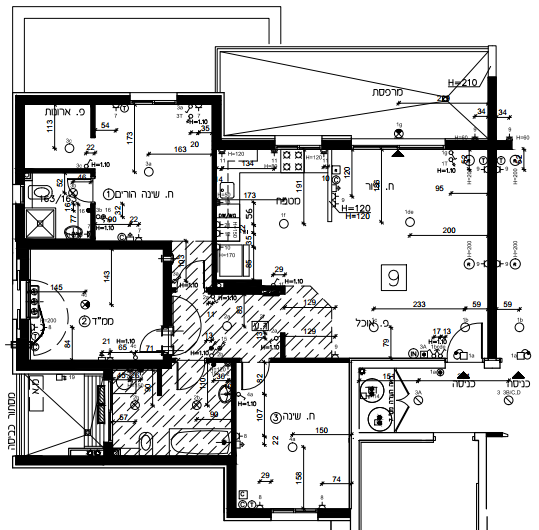wall: (16, 456, 227, 464), (19, 360, 172, 370), (20, 240, 165, 250), (489, 77, 494, 355), (15, 93, 26, 179), (32, 96, 127, 104)
